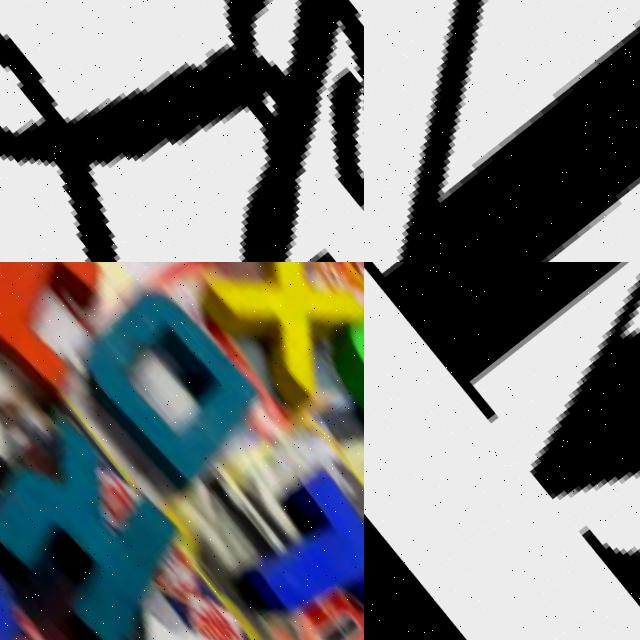D: (67, 278, 278, 489)
I: (0, 262, 137, 398)
K: (0, 406, 199, 640)
M: (364, 262, 640, 640)
Q: (95, 571, 345, 640)
R: (34, 0, 364, 262)
T: (194, 448, 364, 640)
X: (174, 262, 364, 398)
